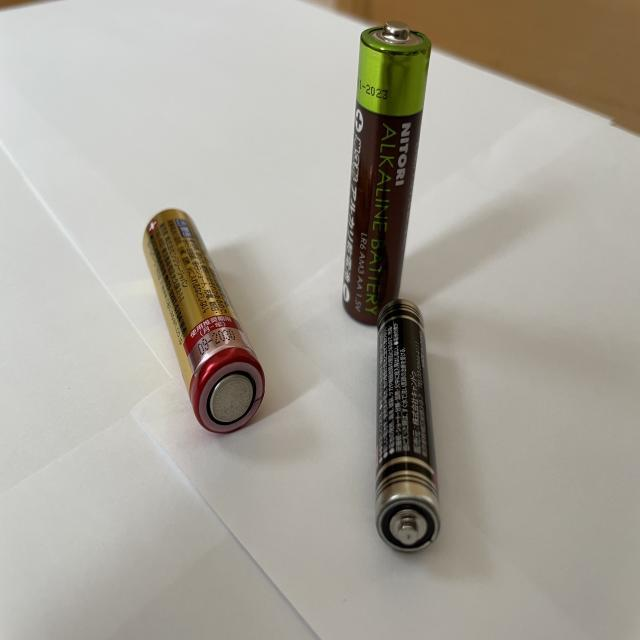hazardous waste: (141, 208, 265, 436), (342, 21, 432, 328), (376, 299, 440, 555)
